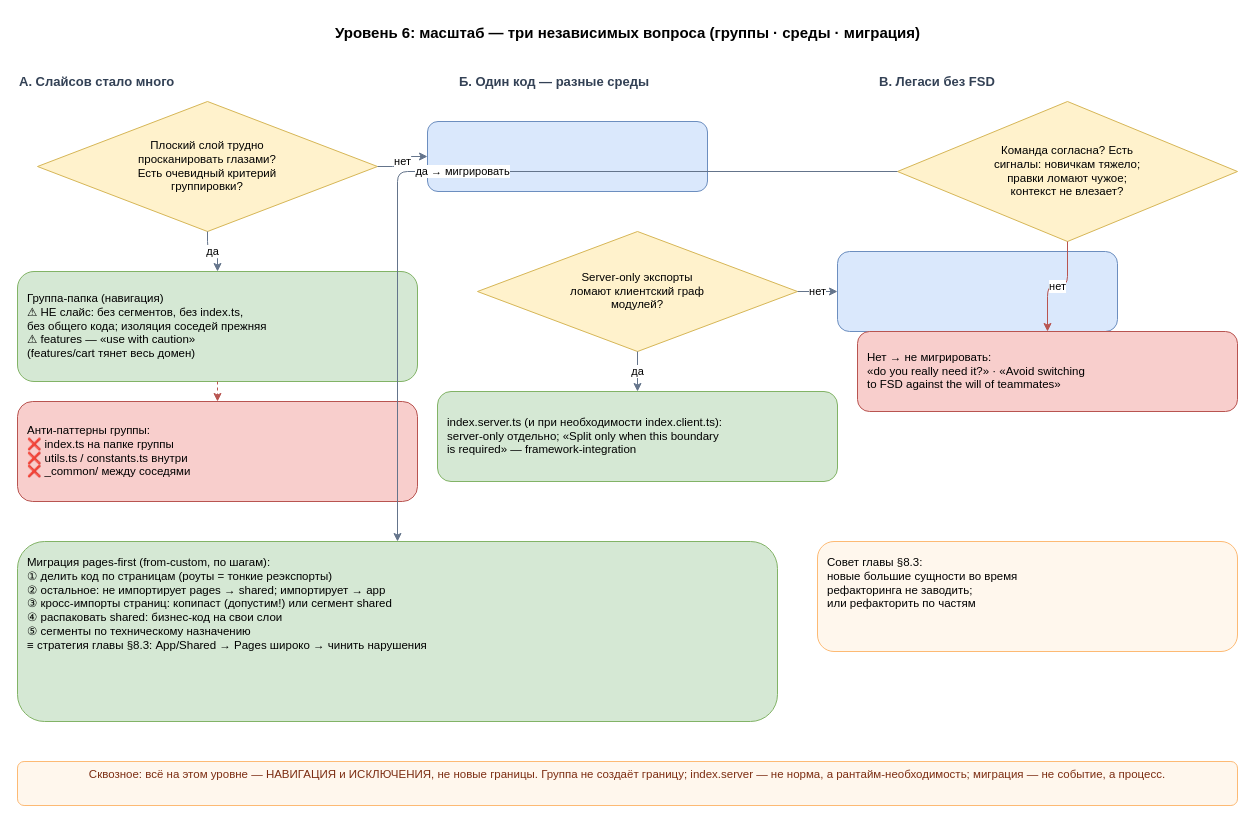
Image size: 1255x823. Some labels were removed from this diagram. Each missing label, with the centre of its shape:
"Нет → один index.ts «ad-hoc variations are not recommended» (SKILL.md §4-2)" goes at pixel 977 291.
"Нет → плоская структура «Names alone are enough for quick navigation»" goes at pixel 567 156.
